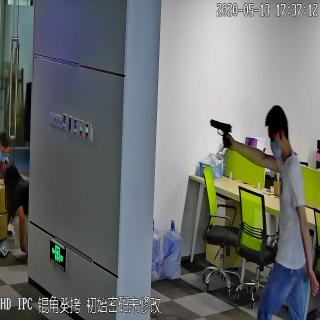gun: (208, 116, 233, 150)
